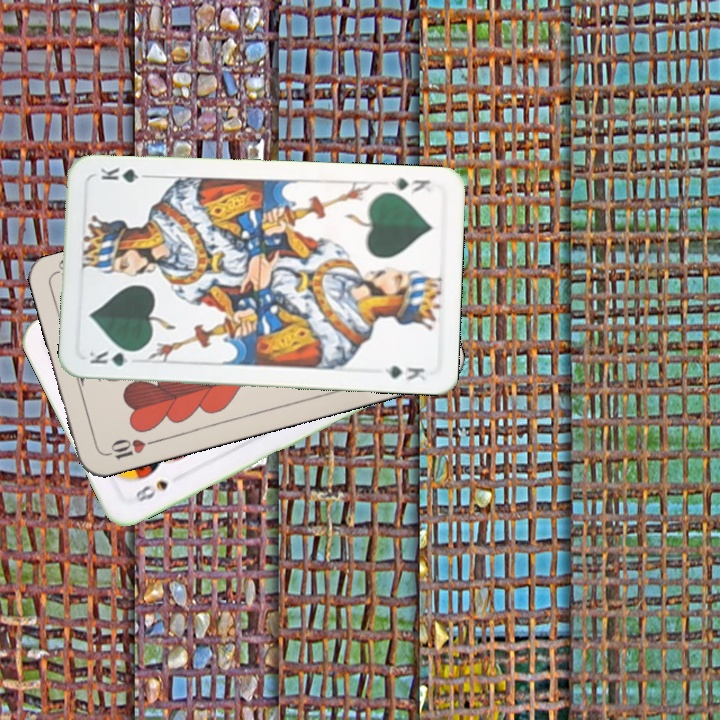GK: (85, 346, 142, 369), (387, 174, 434, 196)
H10: (101, 435, 160, 462)
S8: (131, 476, 171, 505)
